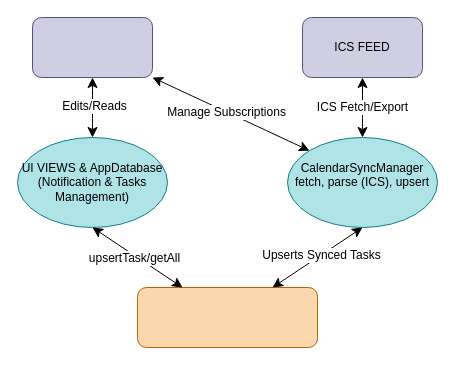
Image size: 455x365. Some labels were removed from this diagram. Here are the shapes that lost their labels. From the top down, the centre of each, then its label:
At [92,47]: "USER".
At [227,317]: "ROOM SQLI DATABASE".
